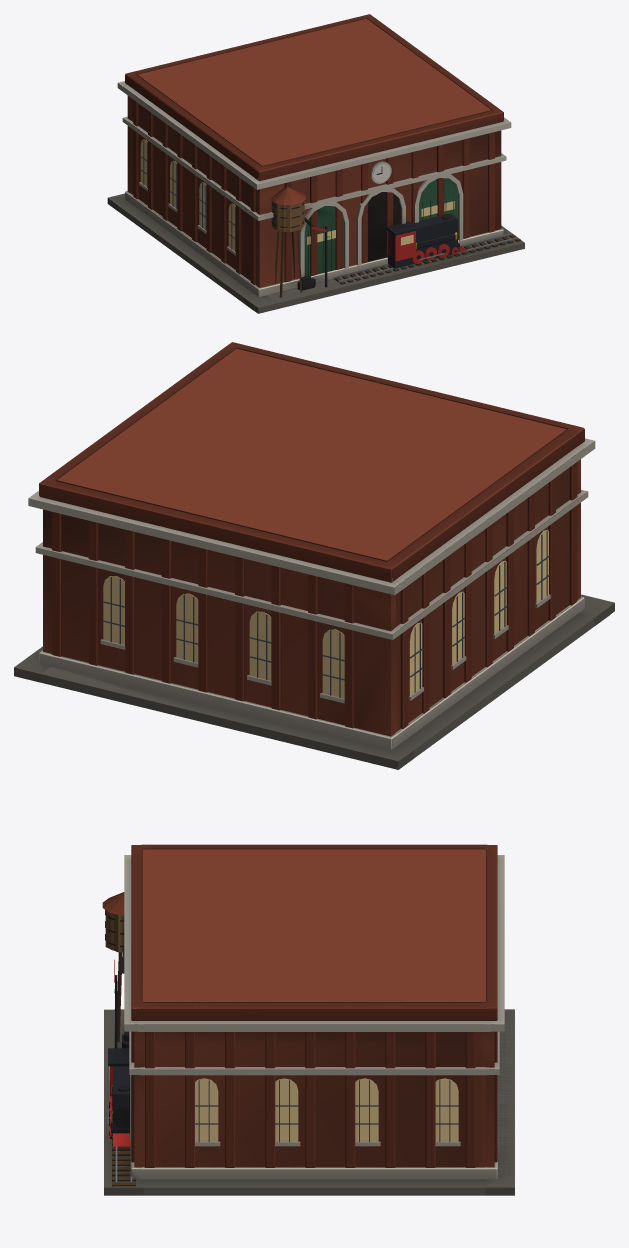
Rendered from MonsterTrainFloor.fbx.
3 renders of one model, top to bottom at view 1: azimuth 30°, elevation 25°; view 2: azimuth 150°, elevation 25°; view 3: azimuth 270°, elevation 25°, orthographic. The views are drawn at different scales.
Parts seen in each view (by area): view 1: DP_S_All, DP_F_Rings, DP_F_Smooth, DP_F_Quiet, DP_F_Props, DP_F_Glass; view 2: DP_F_Rings, DP_S_All, DP_F_Smooth, DP_F_Glass, DP_F_Quiet; view 3: DP_S_All, DP_F_Rings, DP_F_Smooth, DP_F_Quiet, DP_F_Glass, DP_F_Props.
Boxes of the visible parts, x1,y1,x2,y2 form: DP_S_All: (108,18,495,310); DP_F_Rings: (118,14,510,297); DP_F_Smooth: (107,74,524,313); DP_F_Quiet: (108,193,524,307); DP_F_Props: (270,187,466,290); DP_F_Glass: (140,139,454,250); DP_F_Rings: (29,342,594,749); DP_S_All: (14,348,609,769); DP_F_Smooth: (14,428,614,769); DP_F_Glass: (103,530,548,698); DP_F_Quiet: (14,594,614,760); DP_S_All: (105,849,514,1195); DP_F_Rings: (124,844,504,1179); DP_F_Smooth: (104,845,514,1195); DP_F_Quiet: (104,1009,514,1187); DP_F_Glass: (109,989,458,1141); DP_F_Props: (102,892,131,1146).
Bounding box in the file's own units: 60 × 20 × 60.
